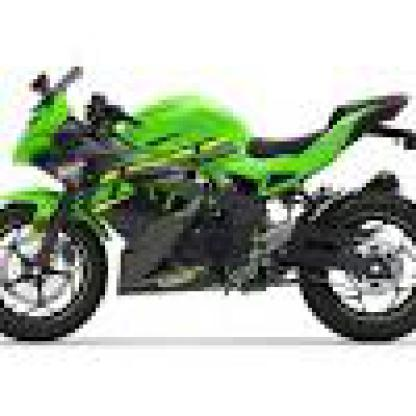Motorcycle: (0, 54, 412, 354)
